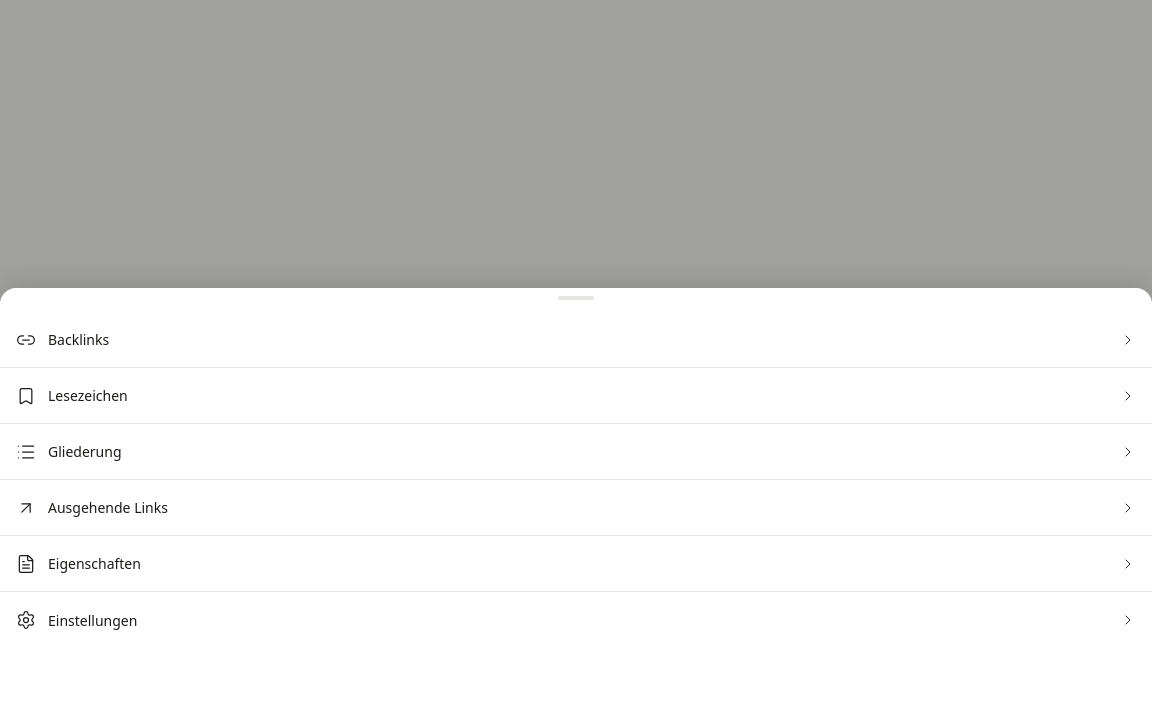
Scenario: MobileBurgerSheet (#397) › clicking the bookmarks row routes to a panel view labelled 'Lesezeichen'
Click the menu item "Lesezeichen". click: point(88, 396)
box: [0,368,1151,424]
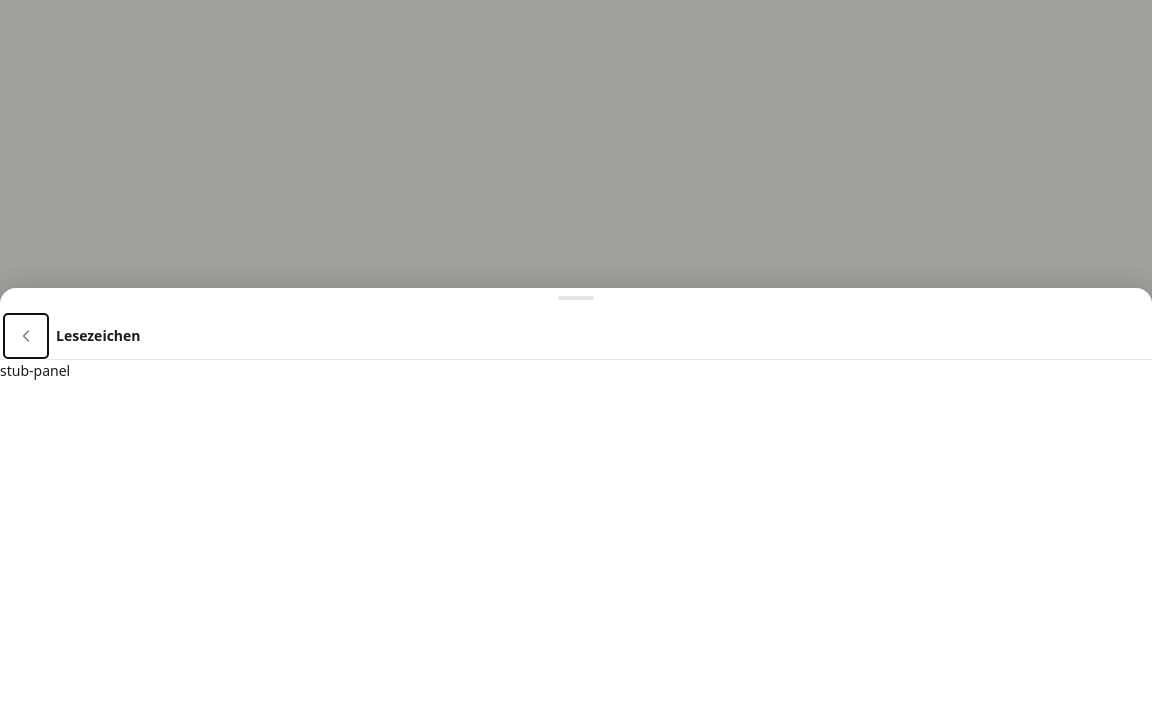
Now the text "stub-panel" is shown, box [0,361,70,380]
